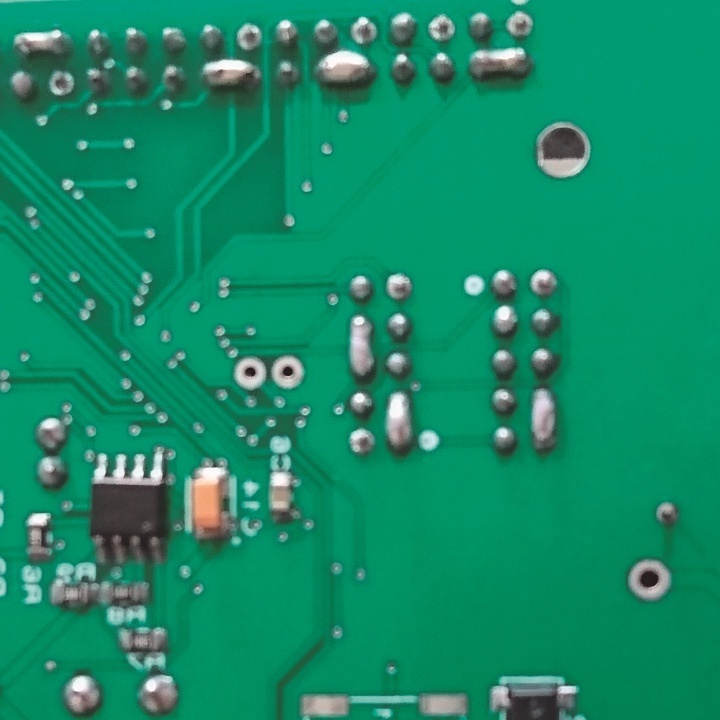F: (627, 556, 673, 604), (268, 352, 306, 391), (232, 354, 267, 392), (233, 20, 267, 53), (651, 497, 683, 529), (426, 10, 457, 43), (349, 14, 379, 46), (47, 67, 76, 100), (504, 9, 535, 38), (529, 266, 557, 298), (347, 426, 376, 455), (386, 272, 413, 302)
P: (316, 50, 374, 87), (467, 46, 530, 80), (347, 312, 377, 383), (384, 386, 413, 454), (530, 385, 558, 454), (201, 60, 260, 91), (11, 28, 74, 57)
